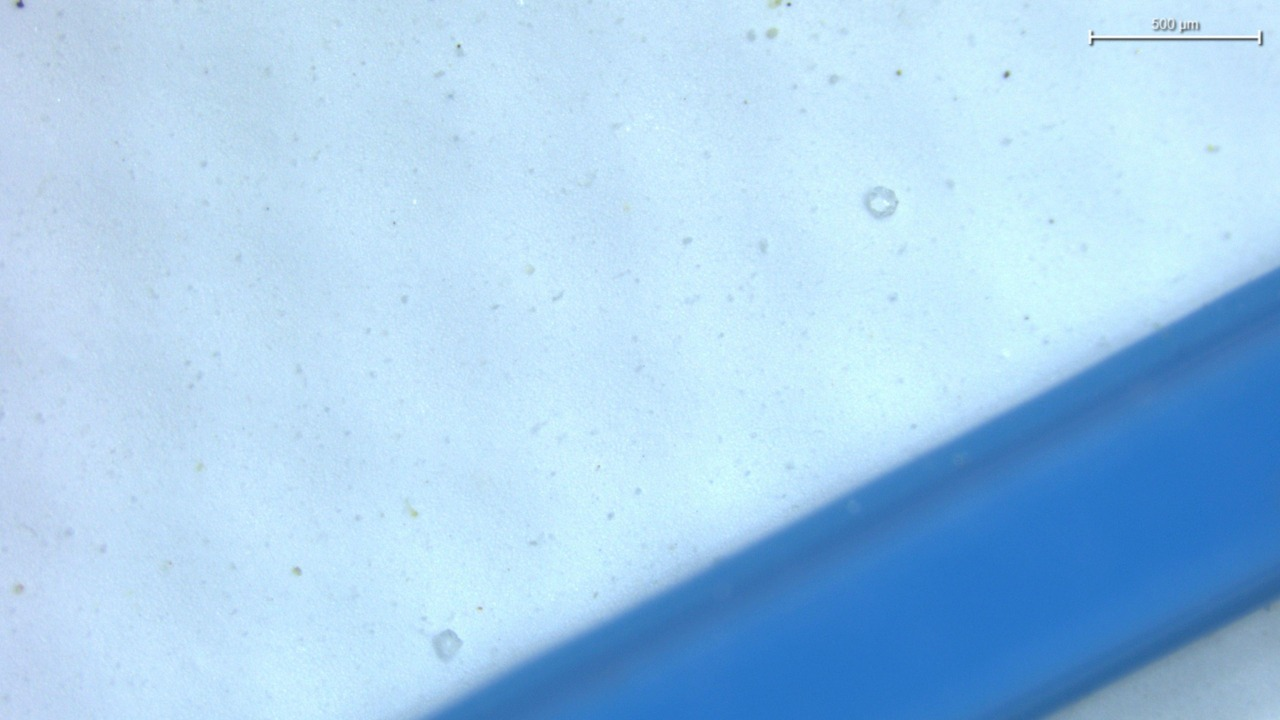microplastic_fragment: (864, 186, 898, 218), (431, 629, 463, 662)
